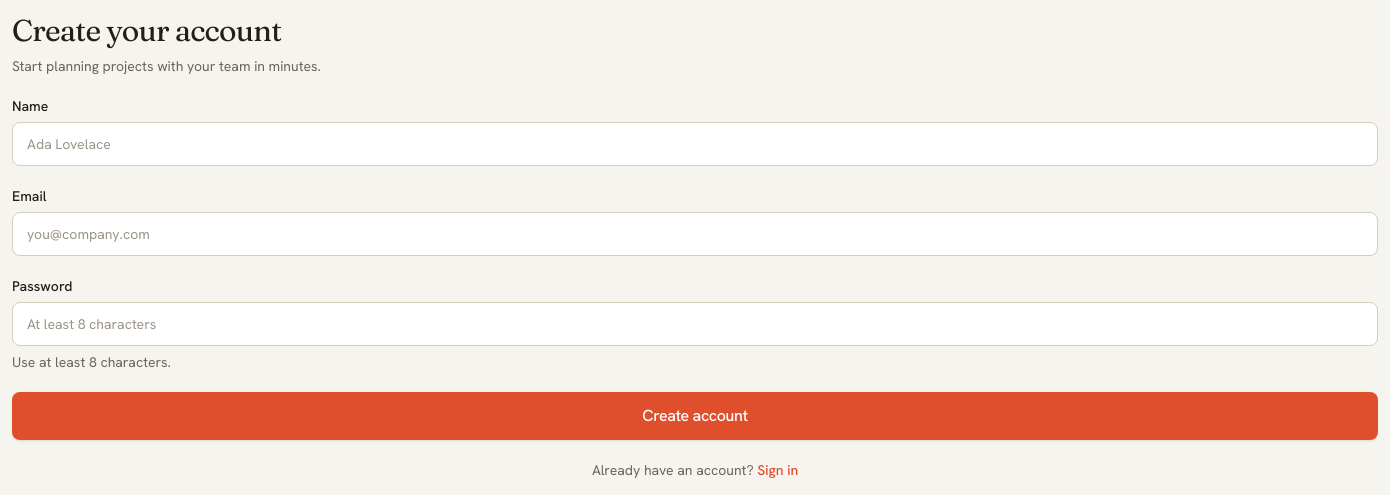
Test: SignupForm › enforces the minimum password length
Step 1. Type "Ada" into the field labelled "Name" → (695, 144), box top-left (12, 122), bottom-right (1378, 166)
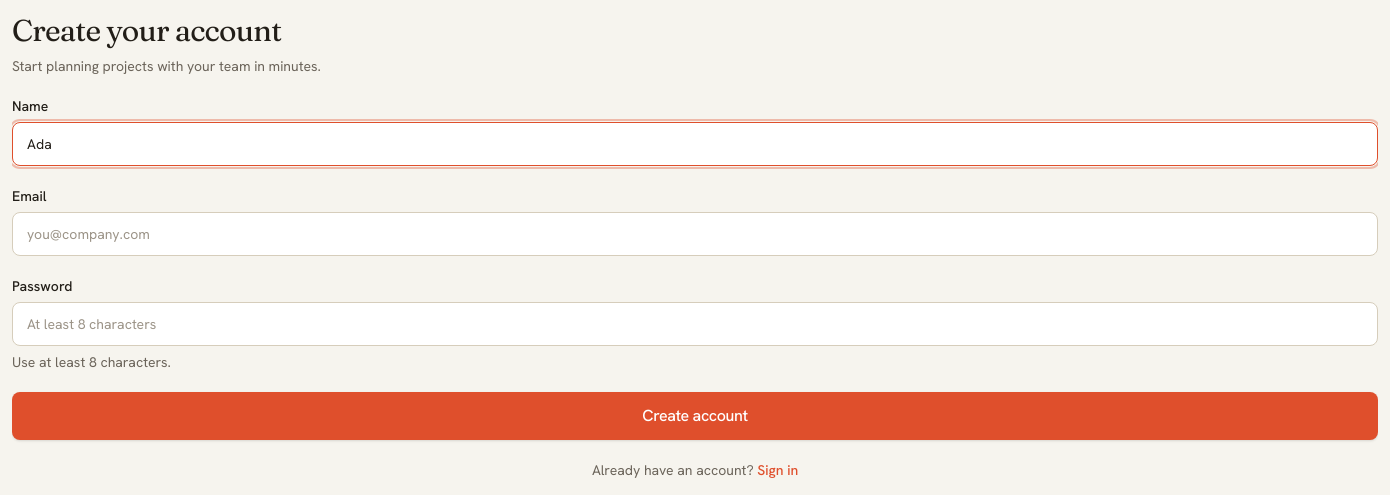
Step 2. Type "ada@example.com" into the field labelled "Email" → (695, 234), box top-left (12, 212), bottom-right (1378, 256)
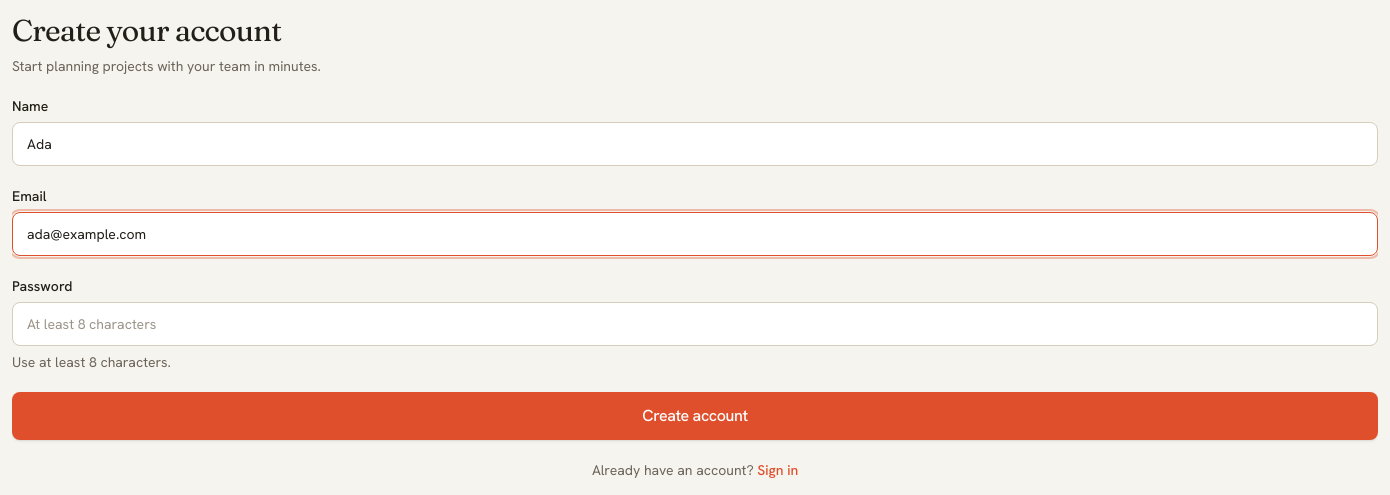
Step 3. Type "short" into the password field labelled "Password" → (695, 324), box top-left (12, 302), bottom-right (1378, 346)
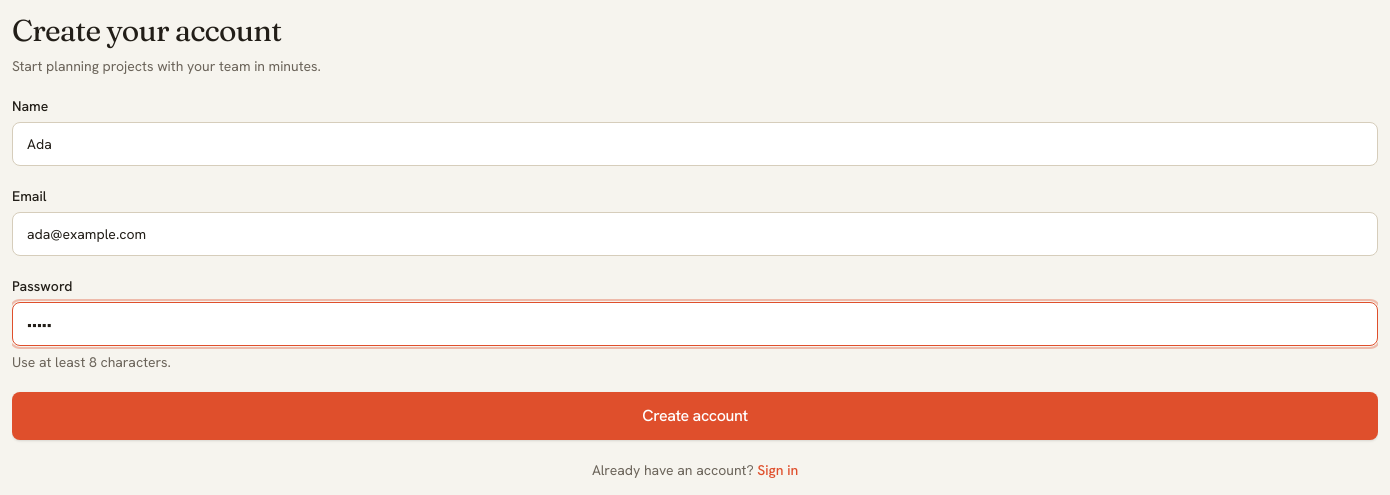
Step 4. Click the button "Create account" → (695, 416), box top-left (12, 392), bottom-right (1378, 440)
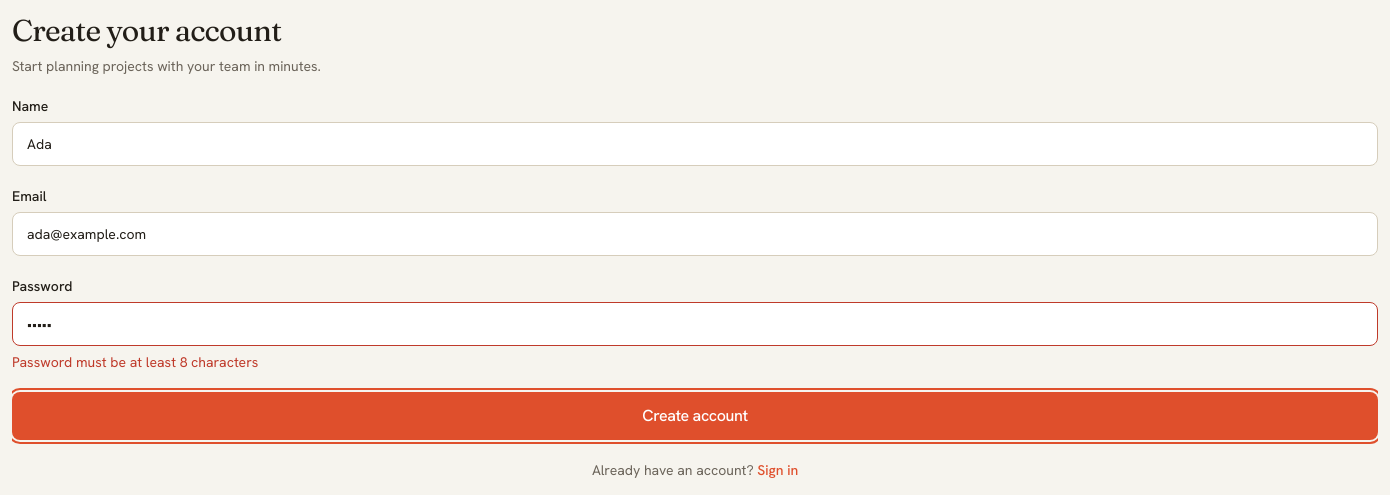
Expected: the text "Password must be at least 8 characters" is shown, top-left (12, 352), bottom-right (258, 370)
